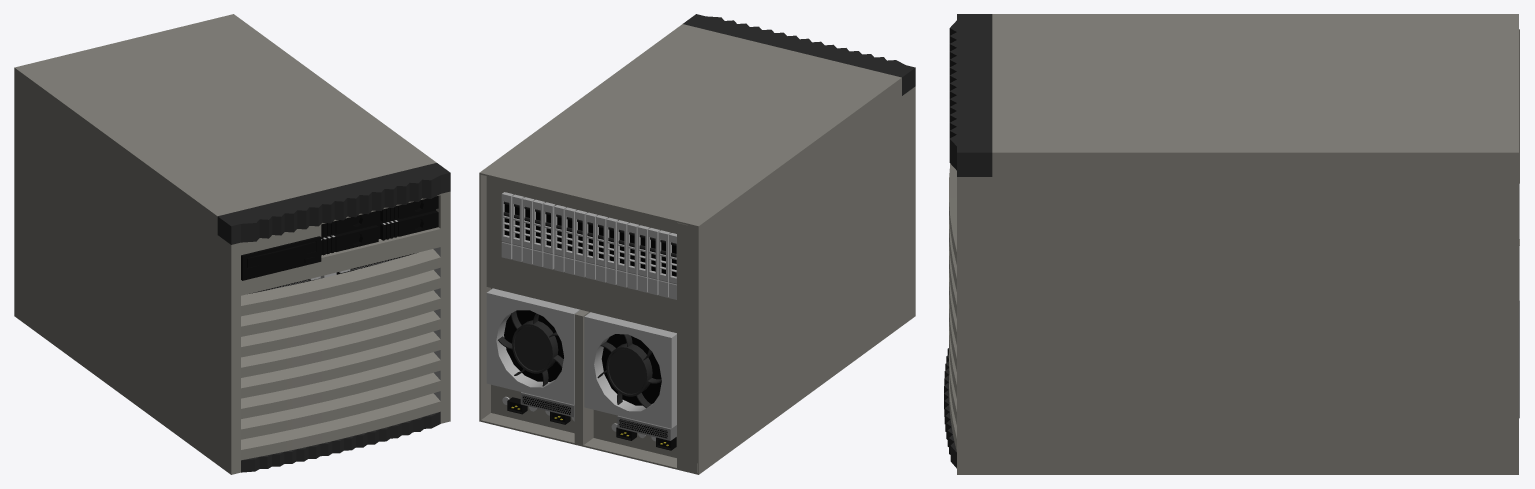
The model's file is HPE_9000 RP7420.fbx.
3 views of the same model, side by side, from view 1: azimuth 30°, elevation 25°; view 2: azimuth 150°, elevation 25°; view 3: azimuth 270°, elevation 25° (orthographic). The views are drawn at different scales.
Visible parts, largest first — view 1: HPE_9000 RP7420; view 2: HPE_9000 RP7420; view 3: HPE_9000 RP7420.
Boxes of the visible parts, left/top/right/bottom form: HPE_9000 RP7420: left=14, top=14, right=450, bottom=474; HPE_9000 RP7420: left=479, top=14, right=915, bottom=474; HPE_9000 RP7420: left=944, top=14, right=1519, bottom=474.
Bounding box in the file's own units: 445 × 482 × 782.
Materials: 11 (2 with a texture image).
